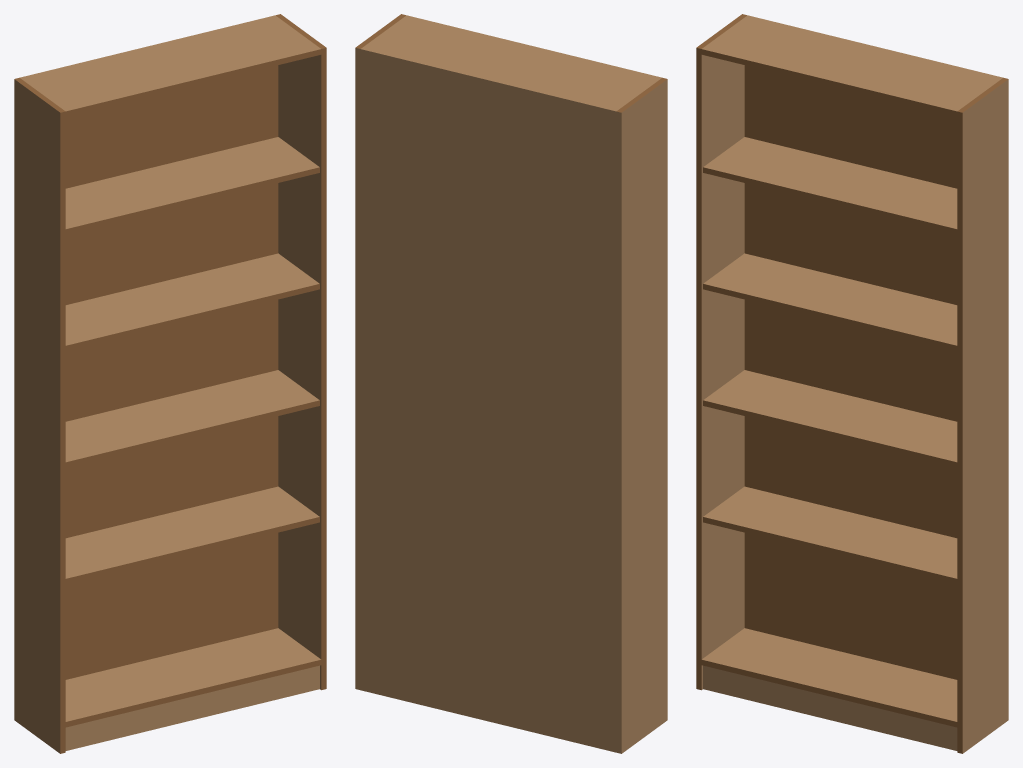
File: WoodShelv.fbx
3 views of the same model, side by side, from view 1: azimuth 30°, elevation 25°; view 2: azimuth 150°, elevation 25°; view 3: azimuth 330°, elevation 25° (orthographic).
Visible parts, largest first — view 1: Cube.009; view 2: Cube.009; view 3: Cube.009.
Part boxes in pixels (bbox=[...]): Cube.009: bbox=[14, 14, 326, 753]; Cube.009: bbox=[355, 14, 667, 753]; Cube.009: bbox=[696, 14, 1008, 753].
Size of the model in its own units: 100 by 230 by 30.
